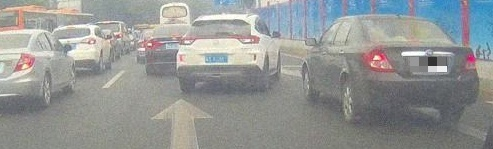L_light: (362, 49, 394, 72), (179, 35, 197, 45)
R_light: (461, 52, 477, 70), (236, 35, 260, 44)
T_light: (396, 20, 414, 23), (210, 36, 225, 38)
day-left: (355, 14, 480, 123)
day-no: (176, 13, 263, 92)
plate_1: (410, 57, 447, 72)
